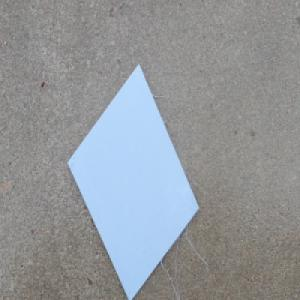PaintChip: (65, 62, 201, 300)
